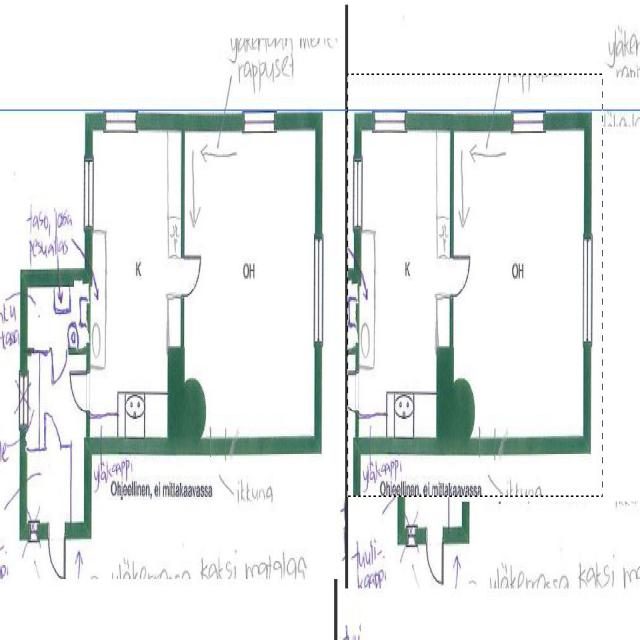door: (49, 523, 64, 578), (70, 371, 90, 412), (450, 259, 470, 297), (181, 257, 200, 295), (52, 346, 67, 391), (46, 404, 60, 448)
